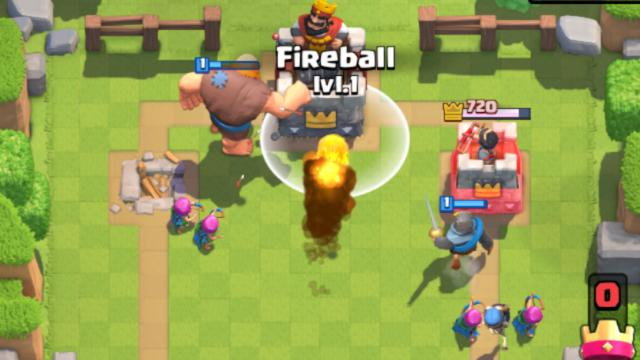ally_melee: (177, 56, 309, 159), (423, 196, 494, 274), (191, 208, 227, 254), (451, 298, 486, 345), (511, 293, 546, 339), (486, 302, 511, 344), (170, 199, 200, 232)
